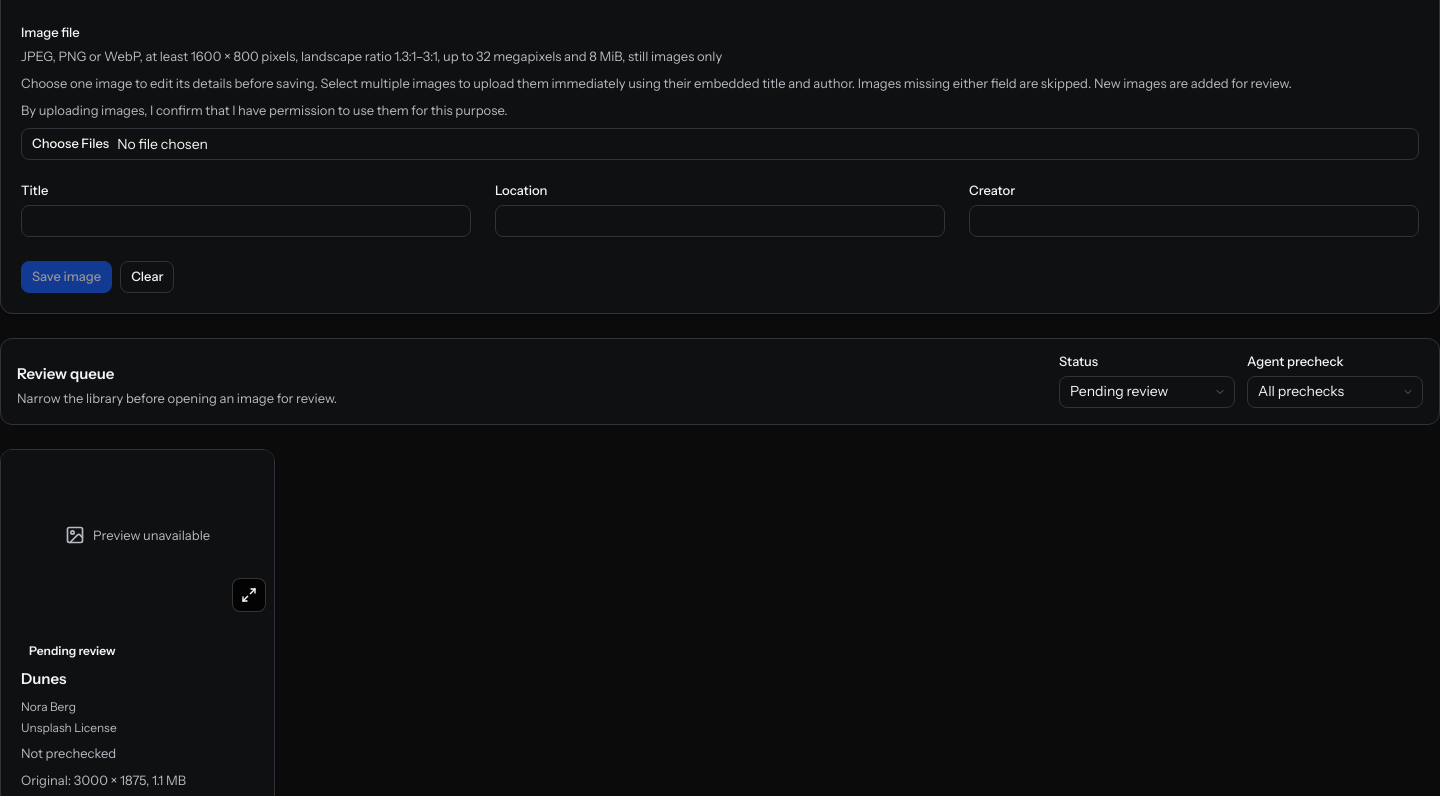
Scenario: the preview over All images › keeps focus in the preview when Approve and next approves the last image waiting
The width and height of the screenshot is (1440, 796).
(page scrolled)
Step 1. Select "All images" in the dropdown with id "background-status" → (1147, 392), box [1059,376,1235,408]
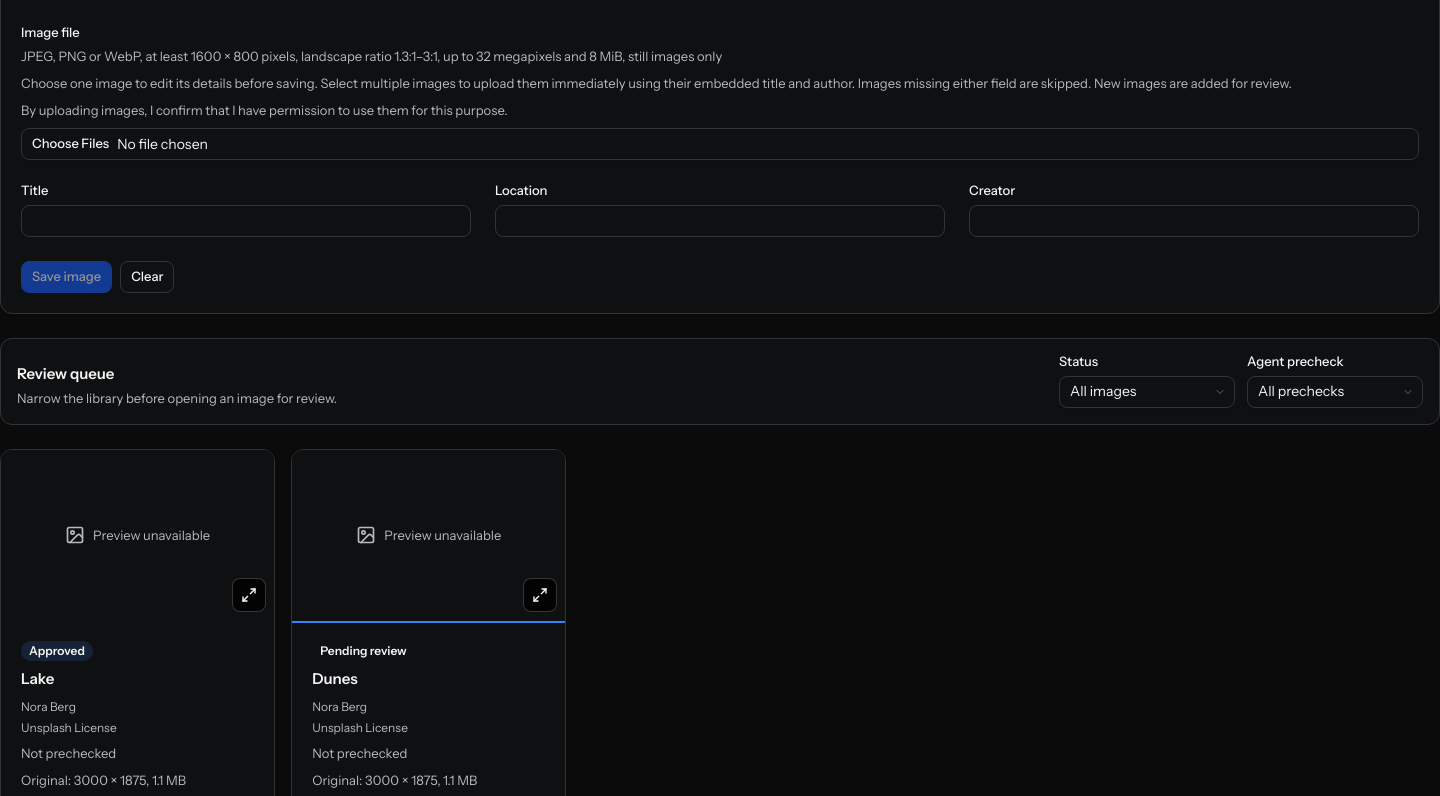
Step 2. Click the 2nd button "Preview unavailable" → (429, 535), box [292,450,565,620]
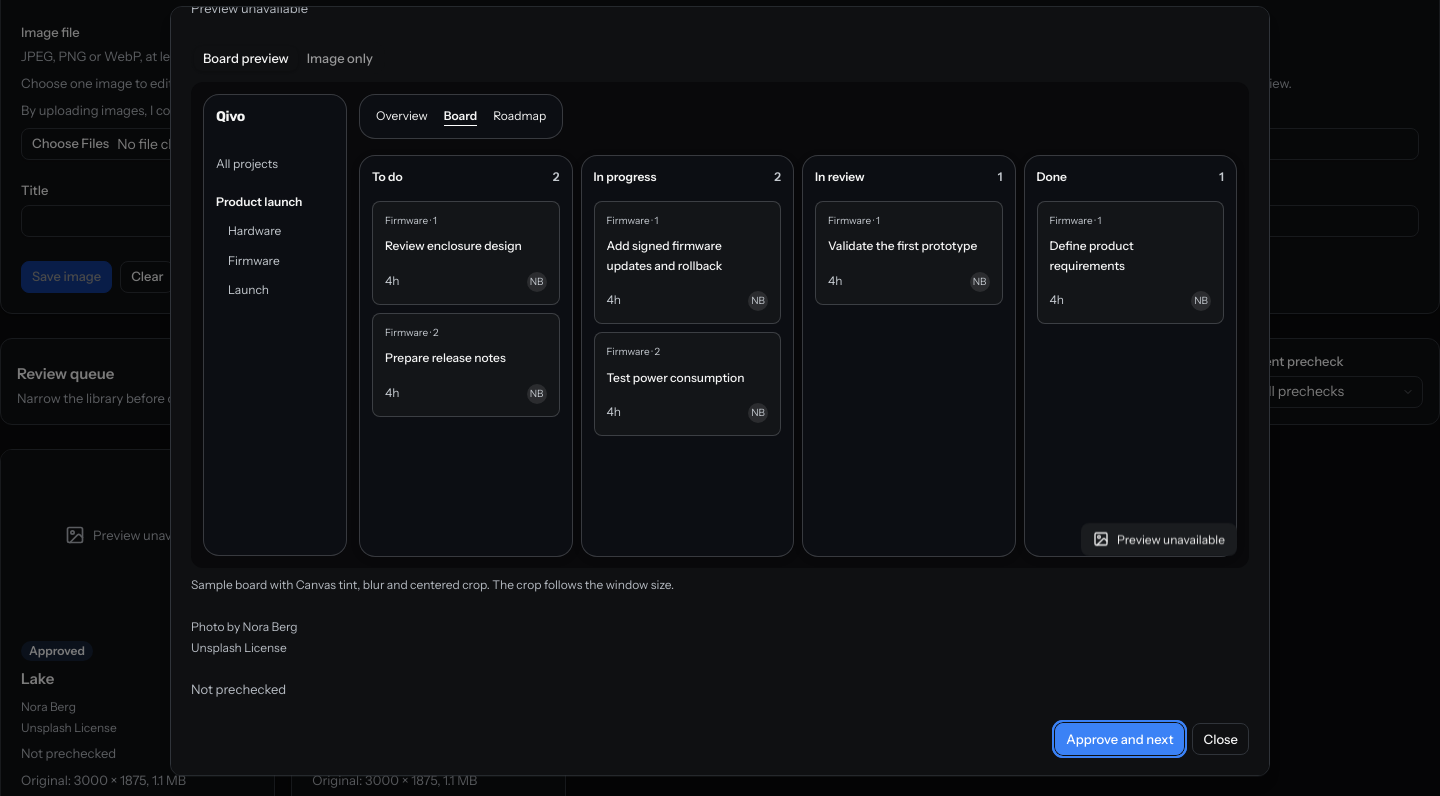
Step 3. Click the button "Approve and next" → (1120, 740), box [1055,724,1184,756]
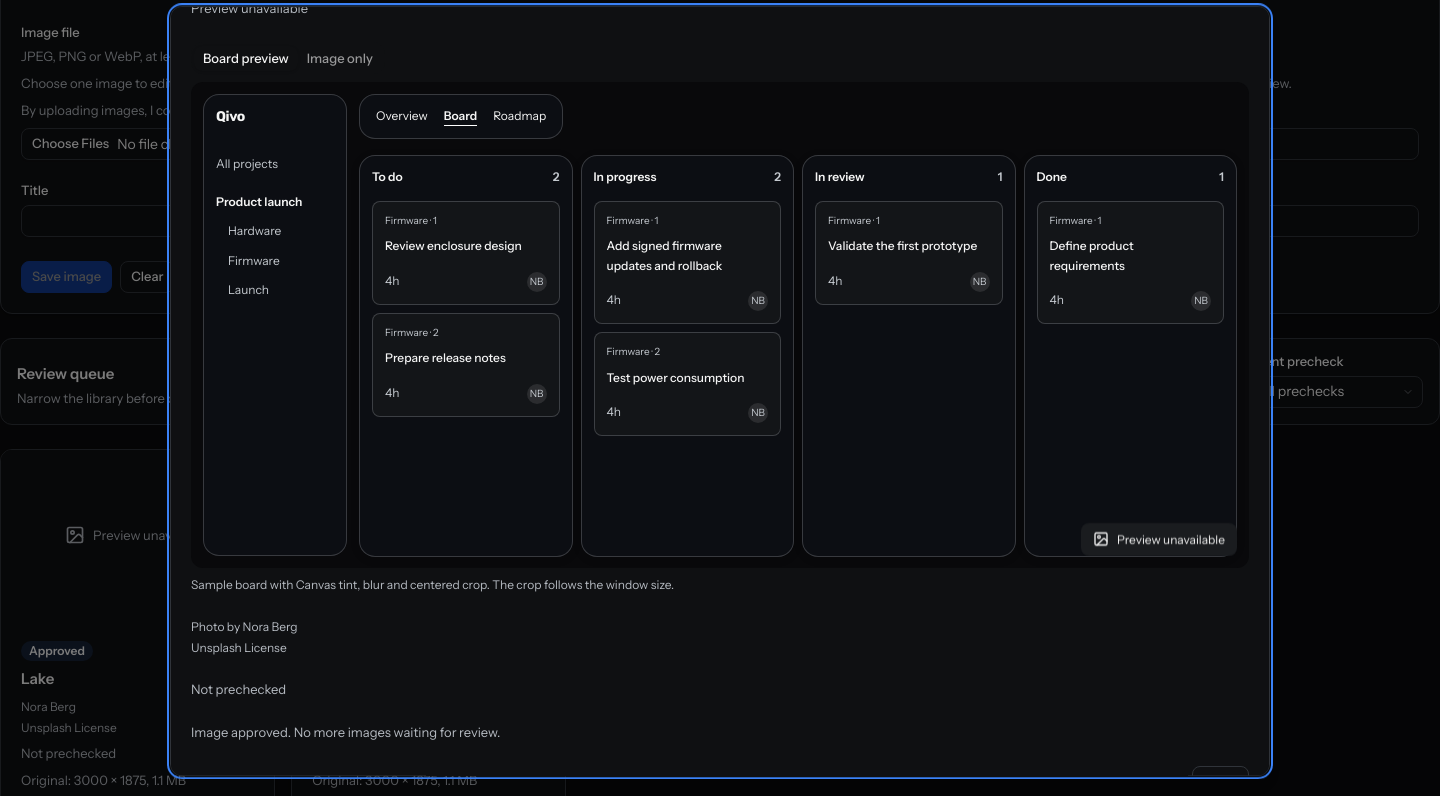
Expected: the message "Image approved. No more images waiting for review." is shown, [191,724,500,740]
